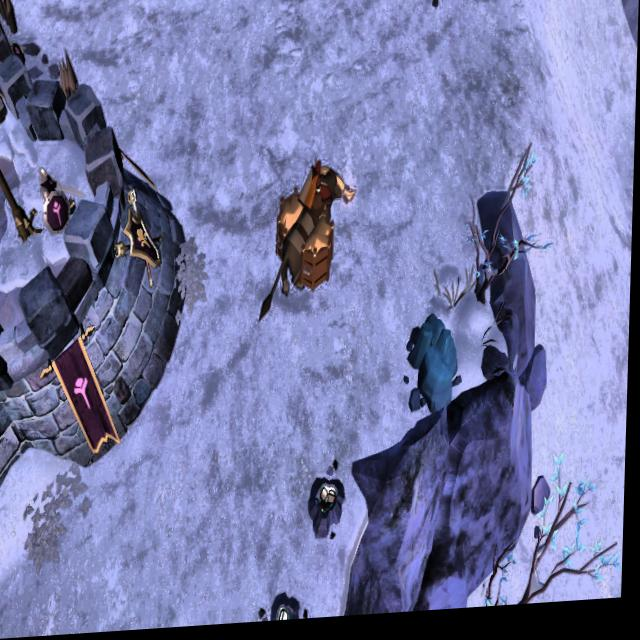rock_t4: (405, 321, 464, 427)
